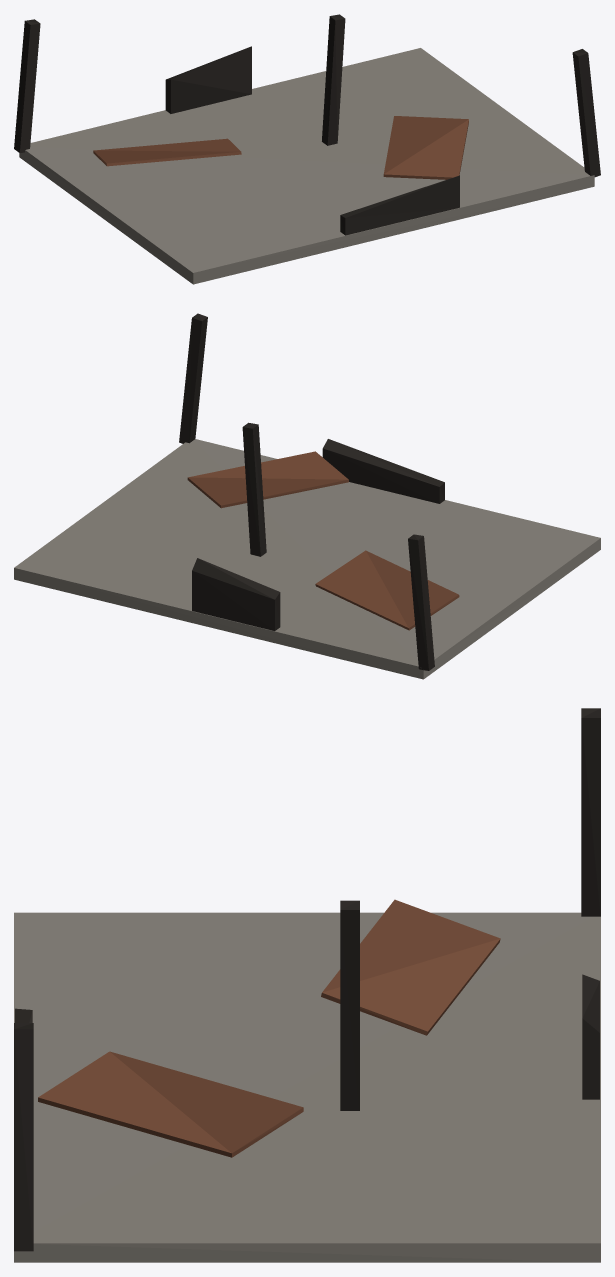
Rendered from ruin_8x6_lod1.glb.
The picture shows the model from 3 angles, top to bottom: view 1: azimuth 30°, elevation 25°; view 2: azimuth 150°, elevation 25°; view 3: azimuth 270°, elevation 25°; orthographic projection. The views are drawn at different scales.
Parts seen in each view (by area): view 1: ruin; view 2: ruin; view 3: ruin.
Boxes of the visible parts, x1,y1,x2,y2 form: ruin: (14, 14, 600, 284); ruin: (14, 313, 600, 679); ruin: (14, 708, 600, 1262).
Bounding box in the file's own units: 8.23 × 2.57 × 6.
